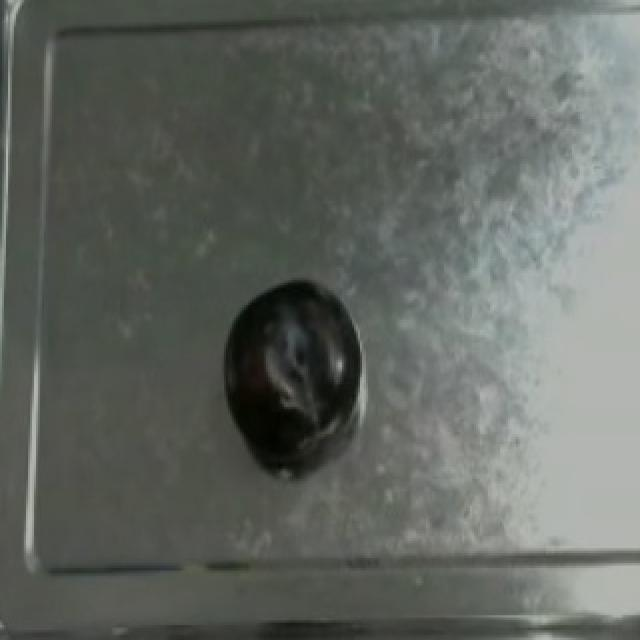Fruit: (220, 273, 362, 466)
